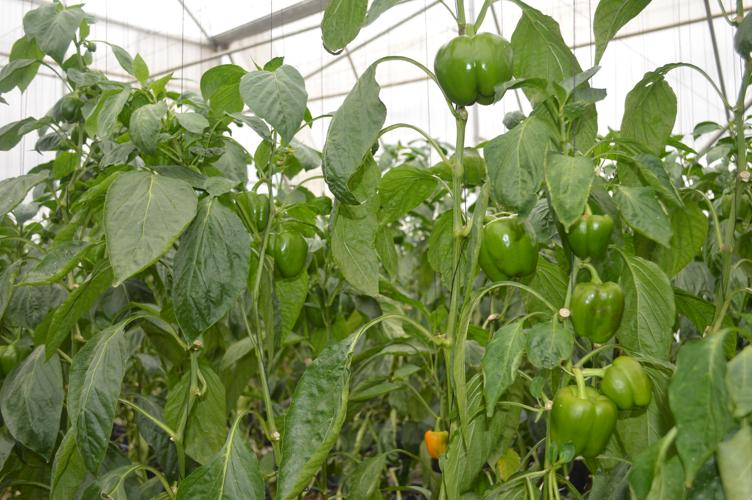BellPepper: (432, 29, 521, 112), (546, 383, 613, 467), (479, 215, 537, 289), (571, 280, 630, 350), (598, 356, 653, 421), (217, 181, 278, 235), (558, 210, 614, 263), (262, 228, 314, 282)
